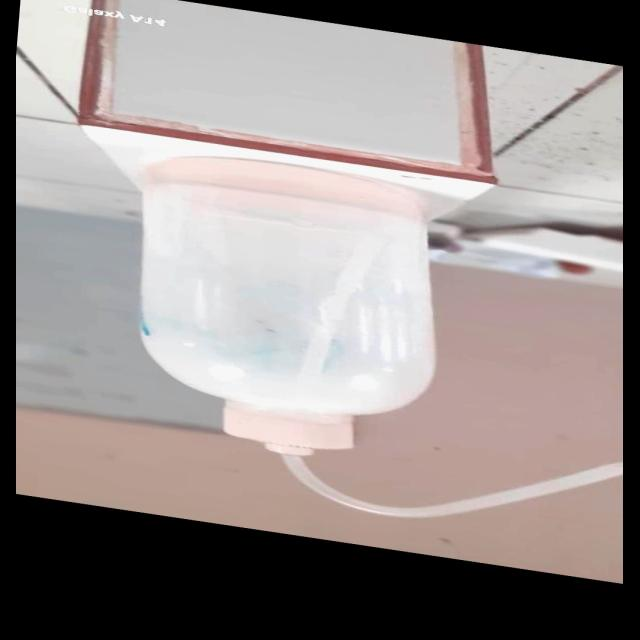Washing Bottle: (100, 143, 623, 566)
